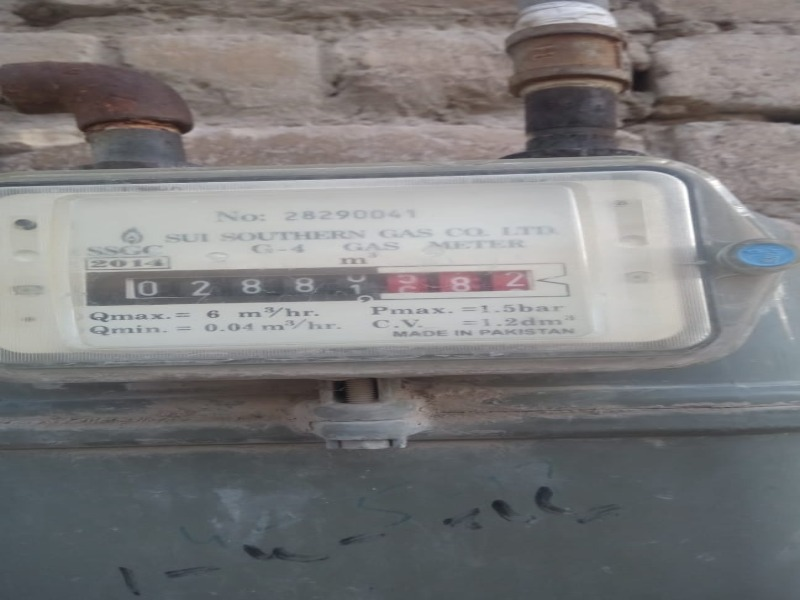ssgc: (84, 263, 550, 304)
